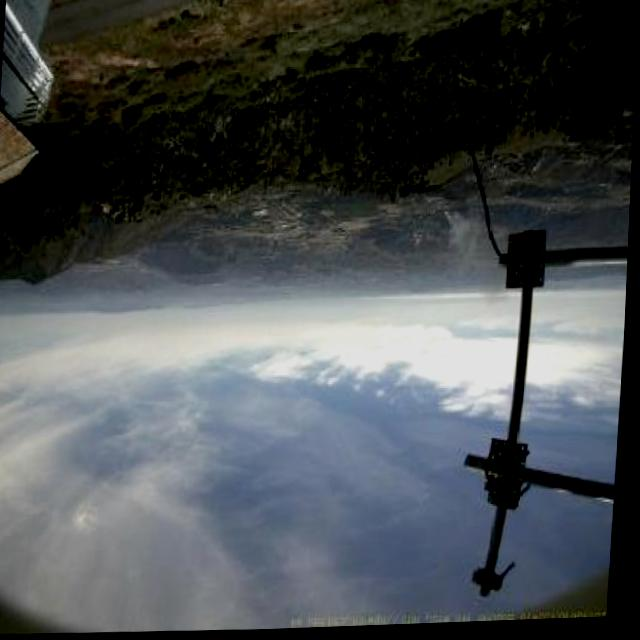Smoke: (440, 207, 509, 304)
